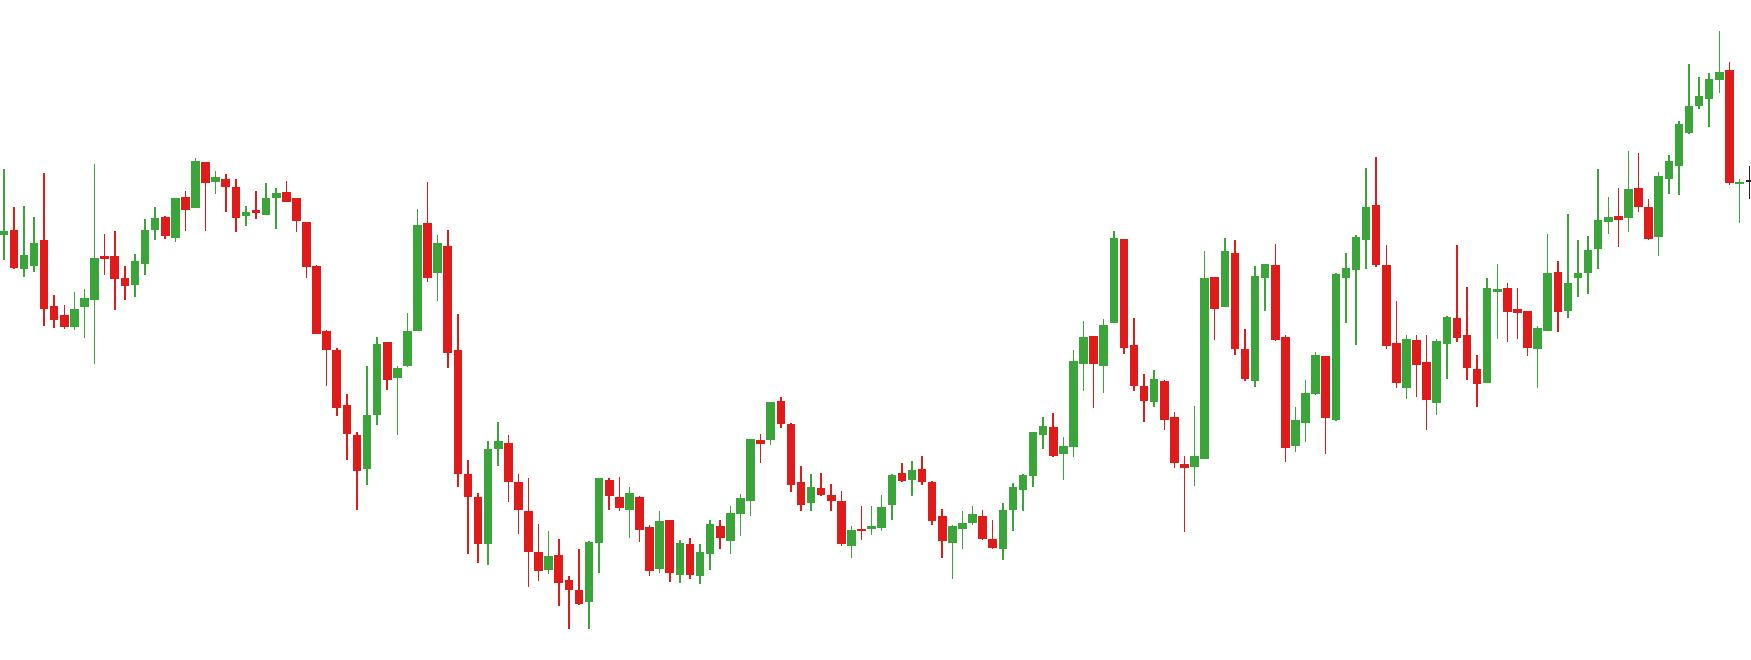buy: (845, 486, 957, 573)
sell: (1269, 157, 1381, 319)
